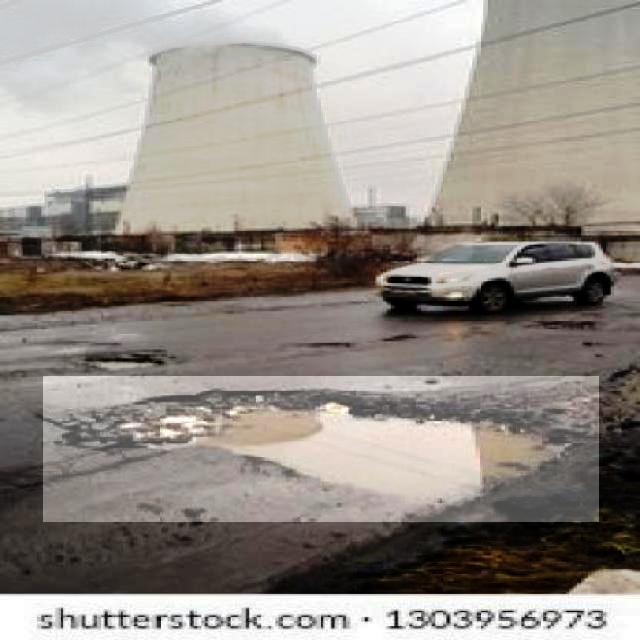pothole: (43, 376, 600, 522), (85, 350, 167, 375)
